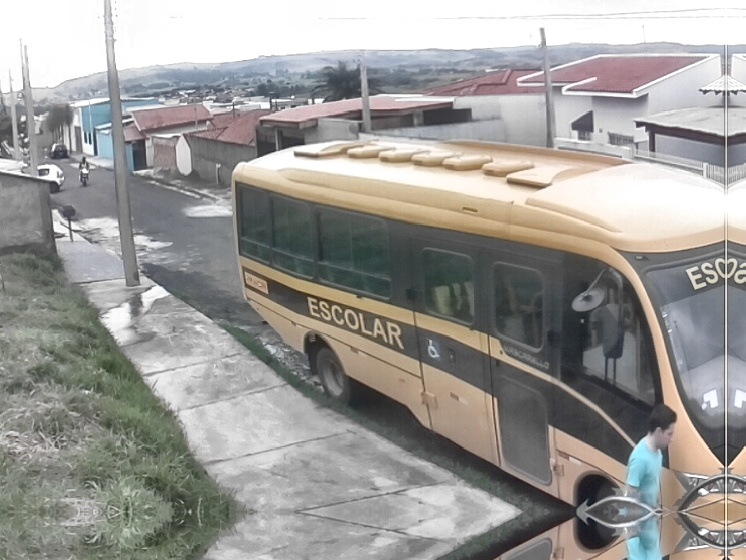person: (624, 403, 680, 560)
